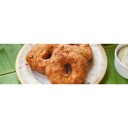vada: (47, 51, 89, 85), (28, 43, 56, 72), (60, 43, 92, 60)
